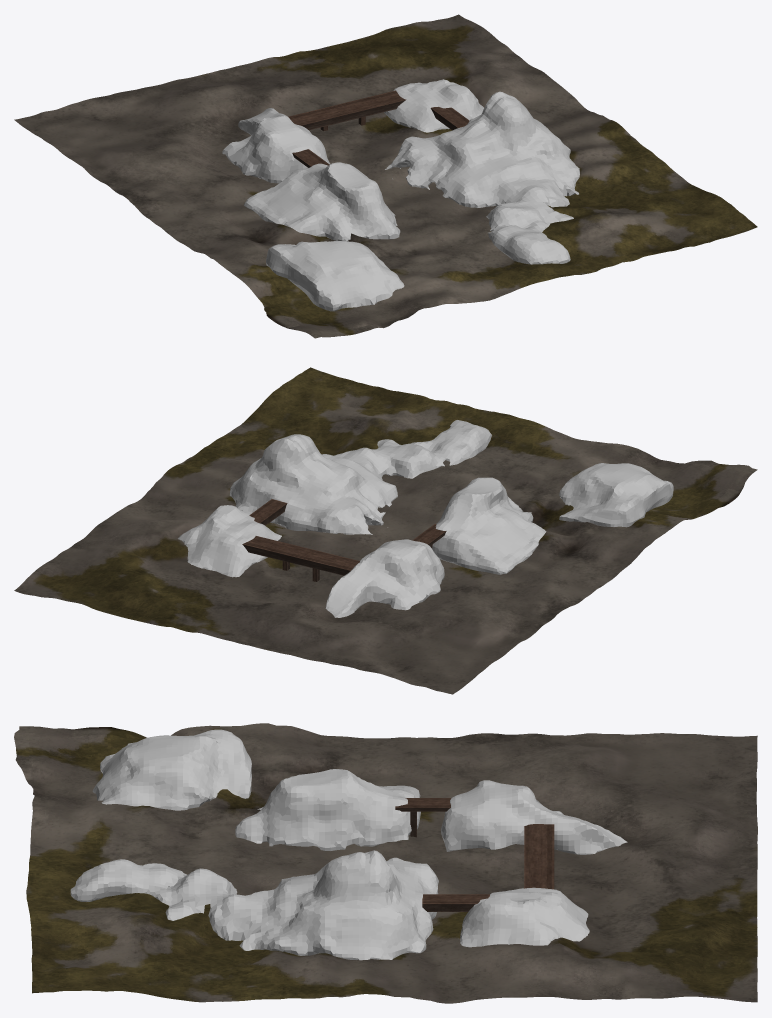
Rendered from map1.fbx.
3 views of the same model, one above another, from view 1: azimuth 30°, elevation 25°; view 2: azimuth 150°, elevation 25°; view 3: azimuth 270°, elevation 25° (orthographic). The views are drawn at different scales.
Visible parts, largest first — view 1: 22, 对象007, 对象009; view 2: 22, 对象007, 对象009; view 3: 22, 对象007, 对象009.
Part boxes in pixels (x1,y1,x2,y2): 22: [14, 14, 757, 338]; 对象007: [222, 79, 579, 311]; 对象009: [288, 90, 469, 167]; 22: [14, 367, 757, 694]; 对象007: [178, 420, 673, 617]; 对象009: [242, 499, 446, 581]; 22: [14, 723, 757, 1003]; 对象007: [70, 729, 627, 960]; 对象009: [395, 798, 554, 911].
Bounding box in the file's own units: 10727 × 2262 × 12458.
